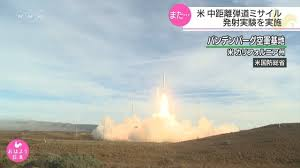ten_lua: (161, 67, 169, 104)
